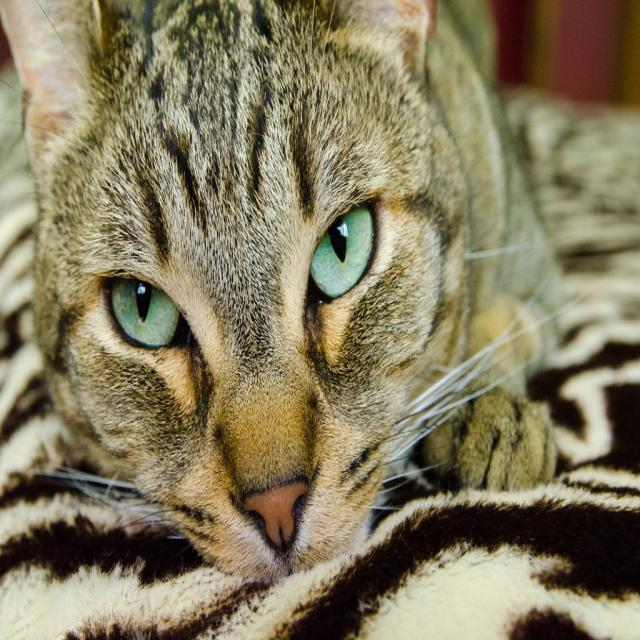Cat: (0, 0, 616, 583)
